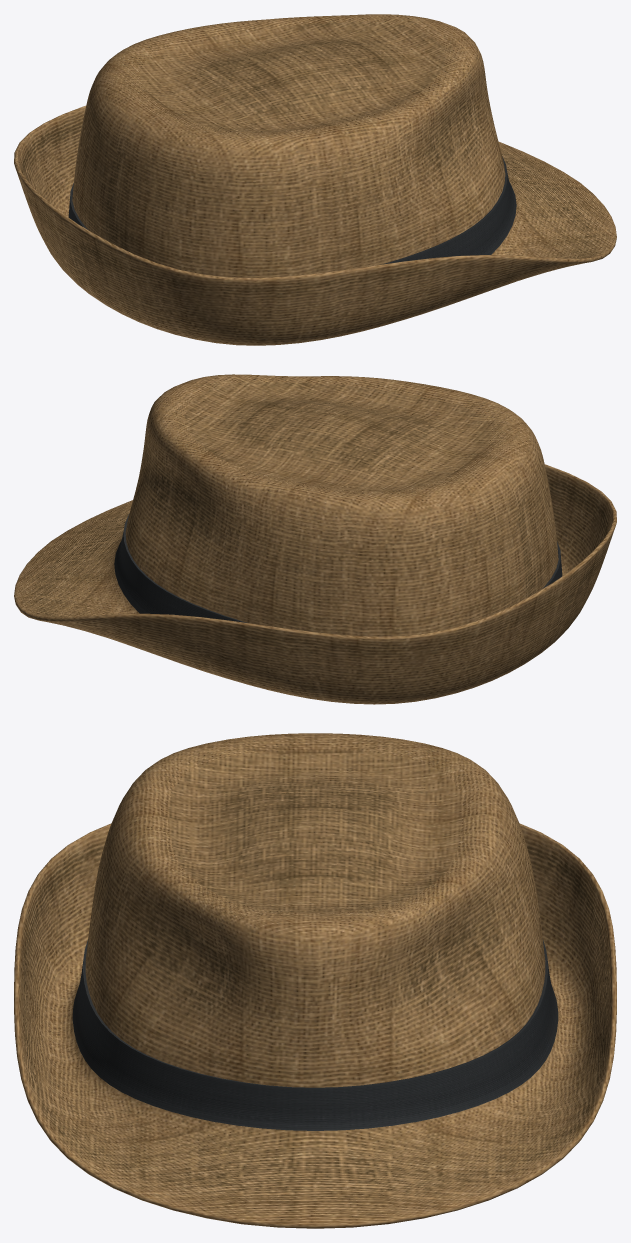
3 renders of one model, top to bottom at view 1: azimuth 30°, elevation 25°; view 2: azimuth 150°, elevation 25°; view 3: azimuth 270°, elevation 25°, orthographic. The views are drawn at different scales.
Parts seen in each view (by area): view 1: Fedora, Strap; view 2: Fedora, Strap; view 3: Fedora, Strap.
Part boxes in pixels (x1,y1,x2,y2): Fedora: (14, 14, 616, 345); Strap: (68, 156, 516, 264); Fedora: (14, 374, 616, 704); Strap: (114, 514, 562, 623); Fedora: (14, 733, 616, 1228); Strap: (72, 939, 558, 1130).
Size of the model in its own units: 380 by 133 by 307.
Materials: 2 (2 with a texture image).
